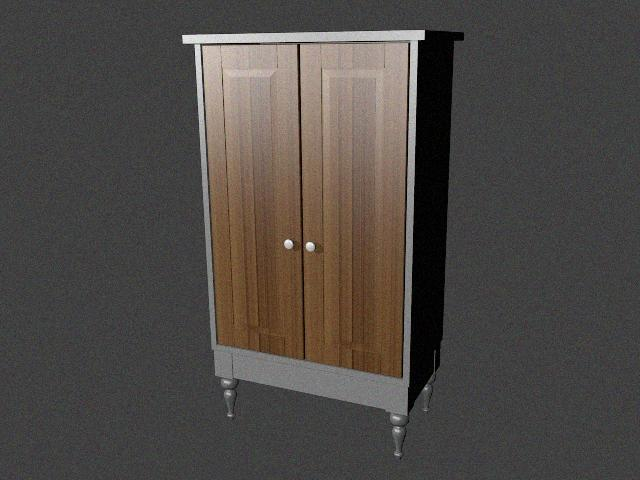cabinet_door: (302, 42, 406, 370), (210, 43, 302, 352)
handle: (304, 238, 318, 256), (283, 236, 296, 255)
